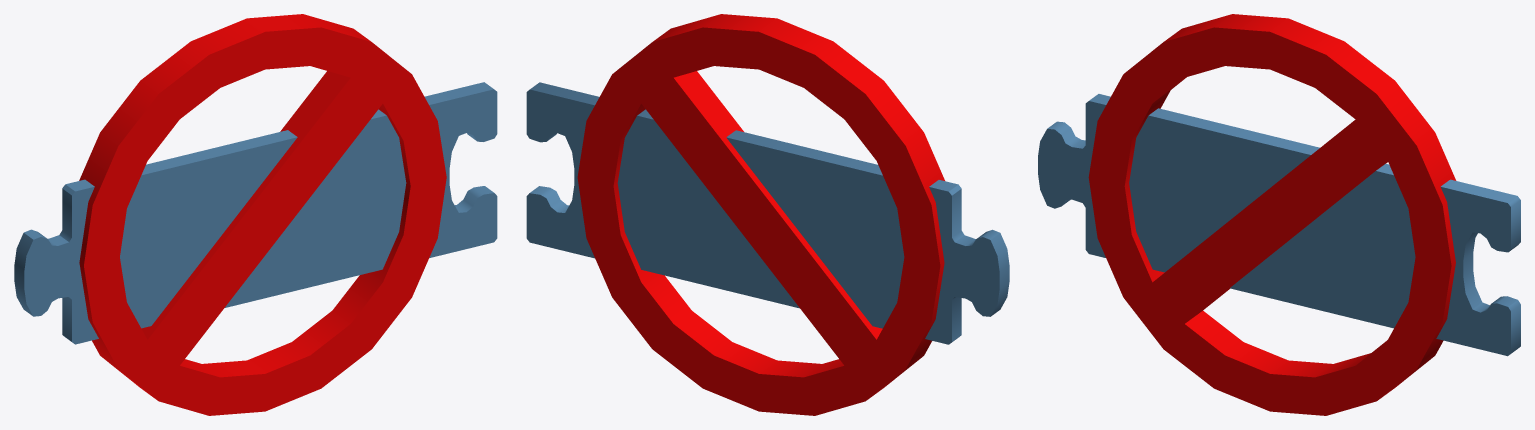
File: blockly_no.dae
3 renders of one model, left to right at view 1: azimuth 30°, elevation 25°; view 2: azimuth 150°, elevation 25°; view 3: azimuth 330°, elevation 25°, orthographic.
Parts seen in each view (by area): view 1: Cylinder001, blockly001; view 2: Cylinder001, blockly001; view 3: Cylinder001, blockly001.
Part boxes in pixels (<box>): Cylinder001: <box>79,14,446,415</box>; blockly001: <box>14,82,497,344</box>; Cylinder001: <box>577,14,944,415</box>; blockly001: <box>526,82,1009,344</box>; Cylinder001: <box>1088,14,1456,415</box>; blockly001: <box>1038,94,1520,356</box>.
Size of the model in its own units: 2.99 by 0.2014 by 2.3.
Materials: 2 (2 with a texture image).
